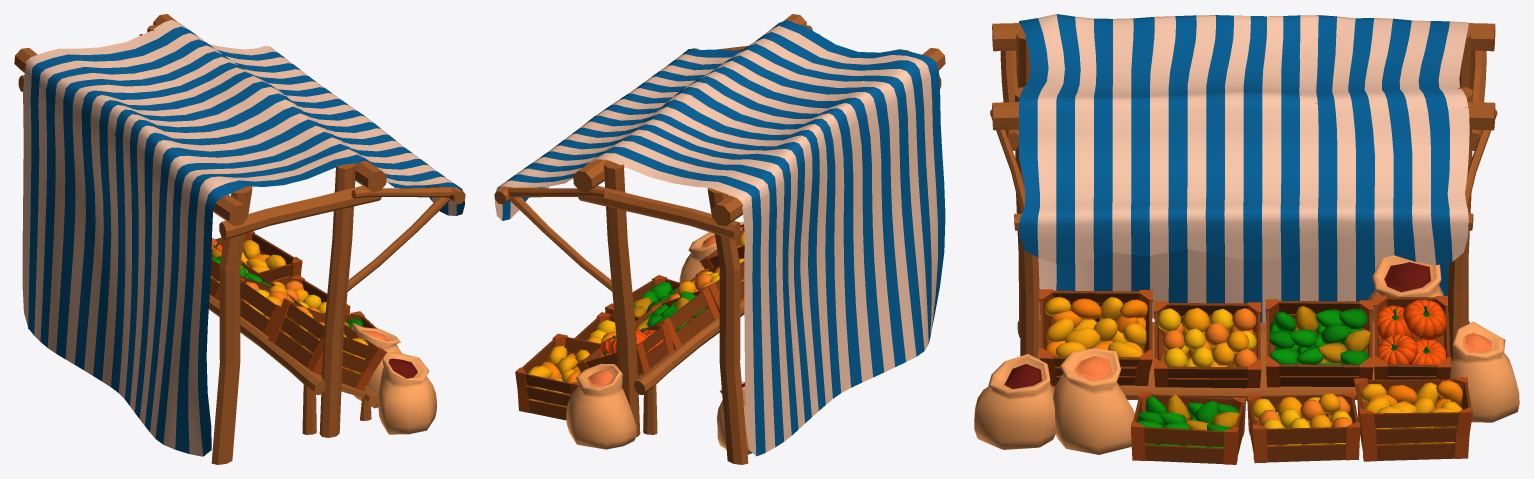
The model's file is lowPoly_MarketStall.fbx.
3 renders of one model, left to right at view 1: azimuth 30°, elevation 25°; view 2: azimuth 150°, elevation 25°; view 3: azimuth 270°, elevation 25°, orthographic. The views are drawn at different scales.
Visible parts, largest first — view 1: Cube.057; view 2: Cube.057; view 3: Cube.057.
Part boxes in pixels (left/top/right/bottom): Cube.057: left=14, top=14, right=465, bottom=464; Cube.057: left=494, top=14, right=945, bottom=464; Cube.057: left=974, top=14, right=1519, bottom=464.
Bounding box in the file's own units: 182 × 178 × 272.
1 material, 1 textured.
